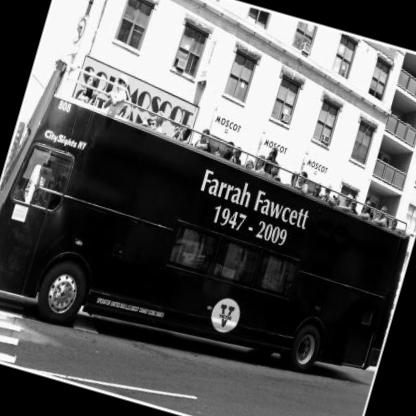bus: (1, 56, 416, 414)
